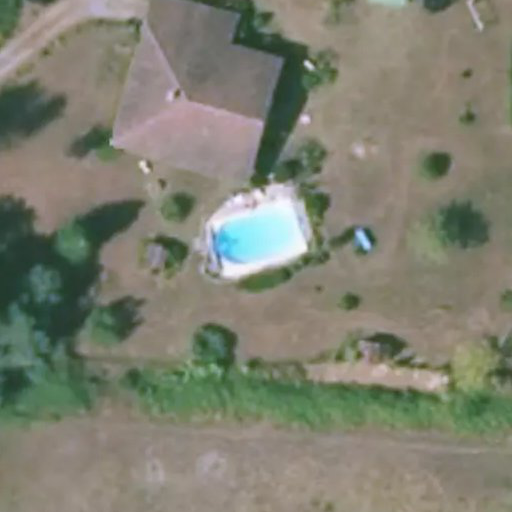pool: (211, 219, 300, 262)
